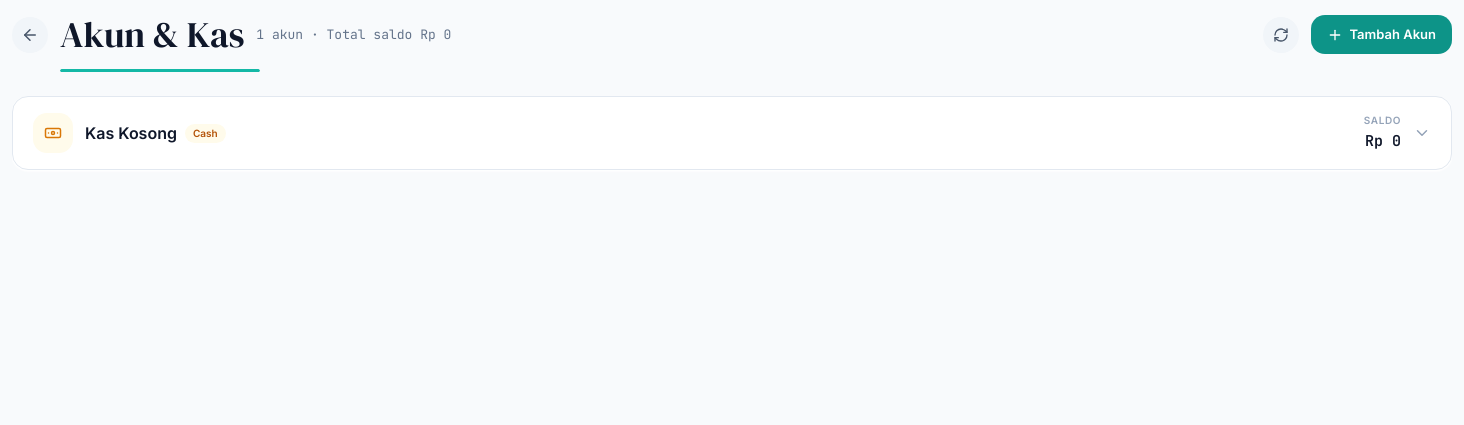
Test: AkunKas page › shows the ledger empty state when an expanded account has no entries (Req 9.5)
The width and height of the screenshot is (1464, 425).
Click the button "Kas Kosong Cash Saldo Rp 0" at [53, 133], box [13,97,1451,169]
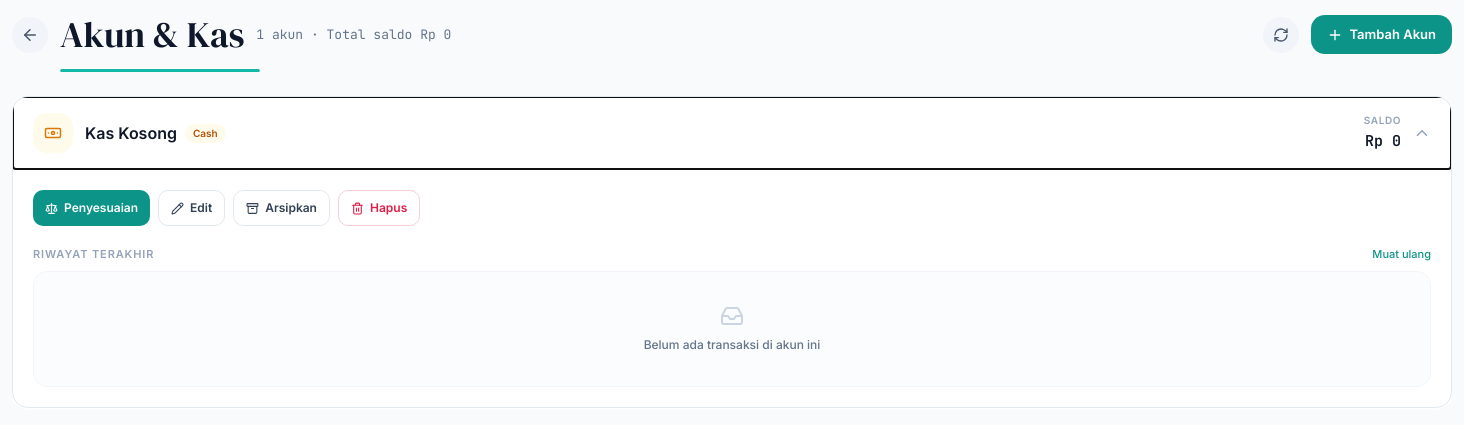
Expected: the text "Belum ada transaksi di akun ini" is shown, [644,336,820,354]
